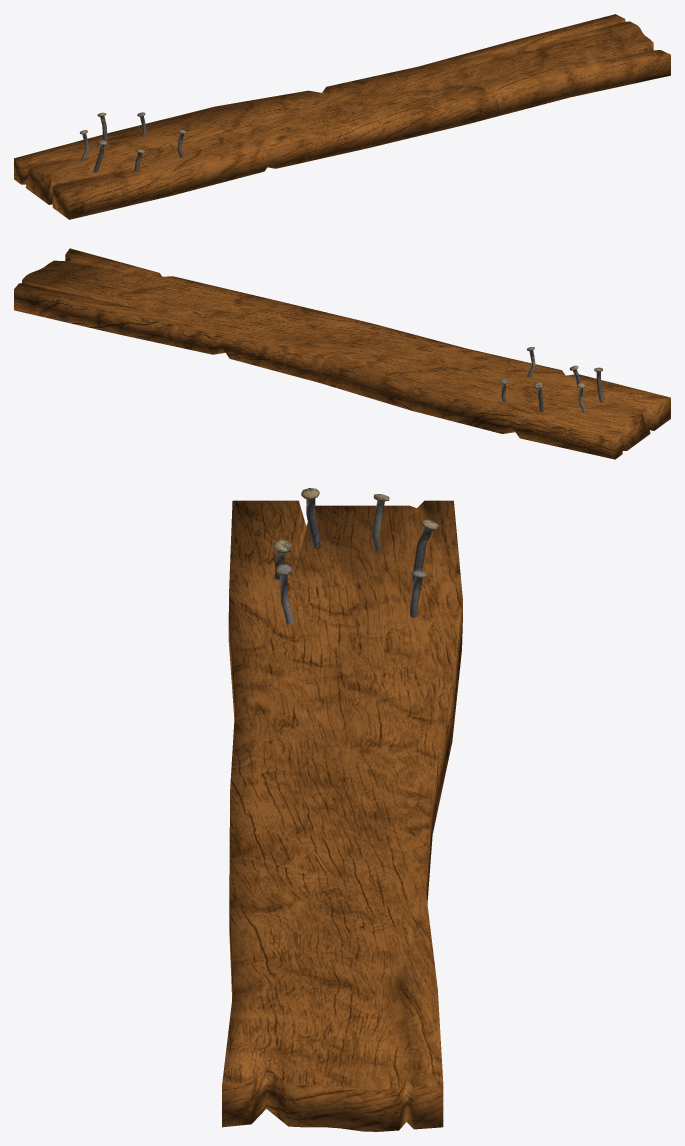
Rendered from BoardwNails.fbx.
3 views of the same model, one above another, from view 1: azimuth 30°, elevation 25°; view 2: azimuth 150°, elevation 25°; view 3: azimuth 270°, elevation 25° (orthographic). The views are drawn at different scales.
Parts seen in each view (by area): view 1: Cylinder.047; view 2: Cylinder.047; view 3: Cylinder.047.
Boxes of the visible parts, x1,y1,x2,y2 form: Cylinder.047: (14,14,670,219); Cylinder.047: (14,248,670,459); Cylinder.047: (222,488,462,1131).
Size of the model in its own units: 1260 by 105 by 218.
2 materials, 2 textured.
